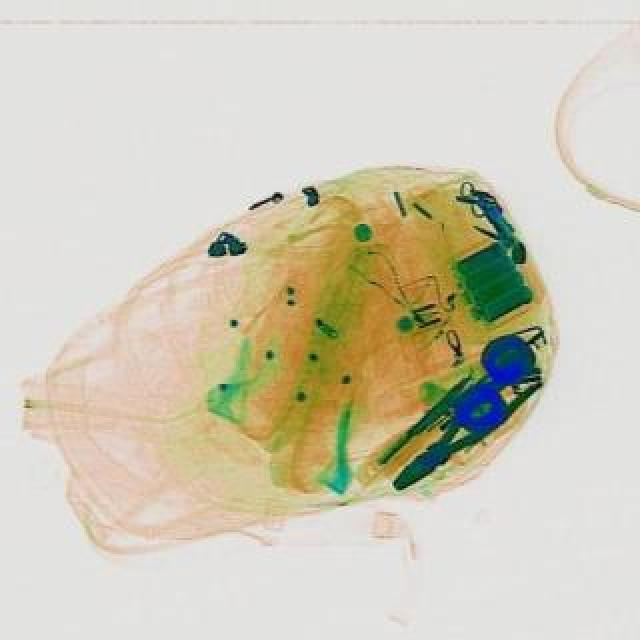wrench: (372, 346, 554, 502)
